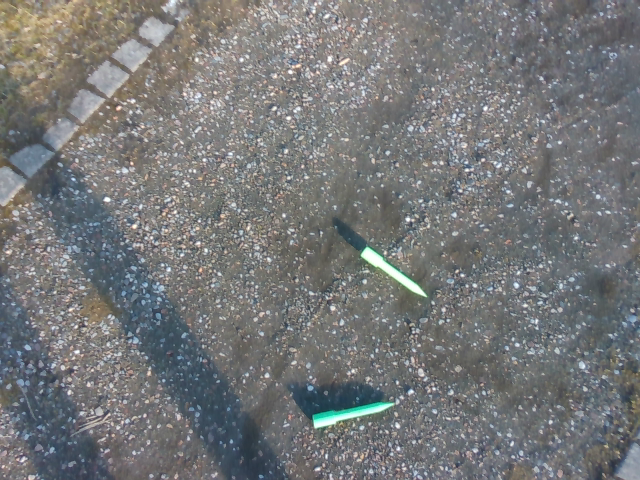Probe: (357, 244, 432, 303), (309, 396, 401, 433)
